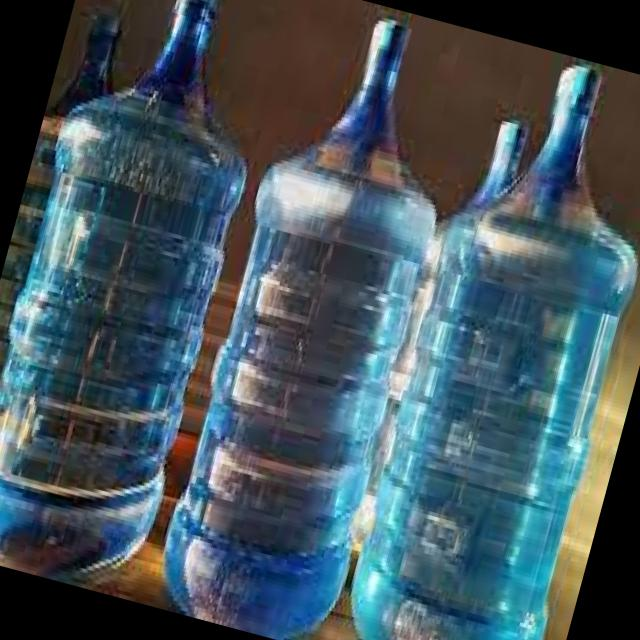Galon: (147, 0, 493, 640), (331, 36, 640, 640), (0, 0, 300, 598)
